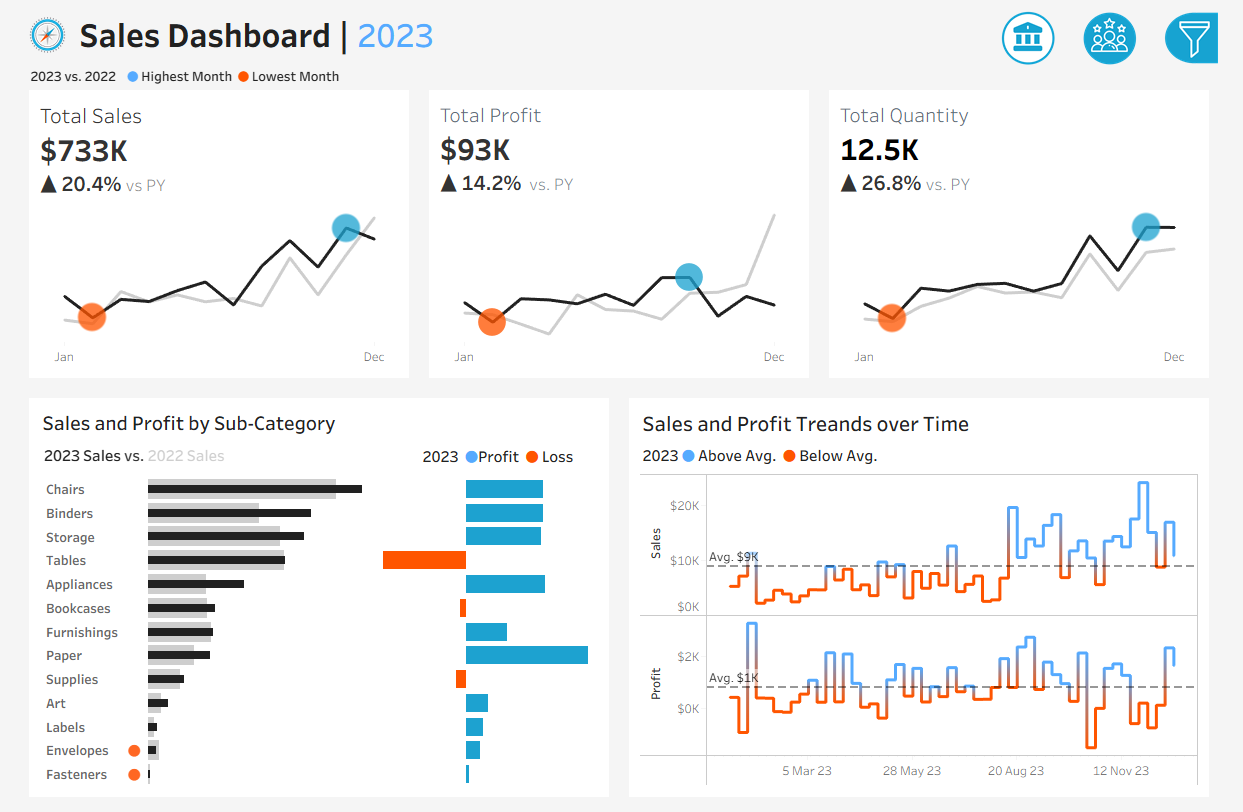

What the dashboard file says about the page in this screenshot:
{"tool":"tableau","page":{"name":"Sales Dashboard","canvas":[1200,800],"ordinal":1},"visuals":[{"type":"image","param":"Image/Icon - Logo.png","box":[2,0,52,55]},{"type":"text","box":[54,0,930,55]},{"type":"dashboard-object","box":[969,0,81,62]},{"type":"dashboard-object","box":[1050,0,81,62]},{"type":"blank","box":[978,5,215,80]},{"type":"worksheet","title":"Legend of KPI","mark":"Automatic","box":[0,55,1200,28]},{"type":"worksheet","title":"KPI Sales","mark":"Line","rows":["Calculation_0787825631051776"],"cols":["Order Date"],"box":[0,83,400,298]},{"type":"worksheet","title":"KPI Profit","mark":"Automatic","rows":["Calculation_0376338495287297"],"cols":["Order Date"],"box":[400,83,400,298]},{"type":"worksheet","title":"KPI Quantity","mark":"Automatic","rows":["Calculation_0591293386543109"],"cols":["Order Date"],"box":[800,83,400,298]},{"type":"text","box":[978,85,215,32]},{"type":"parameter","param":"[Parameters].[Parameter 1018997670502403]","box":[978,117,215,63]},{"type":"blank","box":[978,180,215,45]},{"type":"text","box":[978,225,215,29]},{"type":"filter","title":"KPI Sales","param":"[federated.0a49qa90tgosyq102g3m016yynfo].[none:Category:nk]","box":[978,254,215,52]},{"type":"filter","title":"KPI Sales","param":"[federated.0a49qa90tgosyq102g3m016yynfo].[none:Sub-Category:nk]","box":[978,306,215,52]},{"type":"blank","box":[978,358,215,42]},{"type":"text","box":[17,398,566,34]},{"type":"text","box":[617,398,566,36]},{"type":"text","box":[978,400,215,38]},{"type":"worksheet","title":"Legend of Sub-Category","mark":"Automatic","box":[17,432,380,34]},{"type":"text","box":[397,432,186,34]},{"type":"text","box":[617,434,566,29]},{"type":"filter","title":"KPI Sales","param":"[federated.0a49qa90tgosyq102g3m016yynfo].[none:Region:nk]","box":[978,438,215,52]},{"type":"worksheet","title":"Weekly Trends","mark":"Automatic","rows":["Calculation_1018997668982784","Calculation_0606411282939905"],"cols":["Order Date"],"box":[617,463,566,320]},{"type":"worksheet","title":"Category Comparison","mark":"Bar","rows":["Sub-Category","Calculation_0218833958481920"],"cols":["Calculation_1018997669982209","Calculation_1018997668982784","Calculation_0606411282939905"],"box":[17,466,566,316.9]},{"type":"filter","title":"KPI Sales","param":"[federated.0a49qa90tgosyq102g3m016yynfo].[none:State:nk]","box":[978,490,215,52]},{"type":"filter","title":"KPI Sales","param":"[federated.0a49qa90tgosyq102g3m016yynfo].[none:City:nk]","box":[978,542,215,52]}]}

Visuals, with their boxes in screenshot pixels (x1, y1, x2, y2), scaled from the page's 1200x800 canvas onto the 1243x812 screenshot:
image: BBox(2, 0, 56, 56)
text: BBox(56, 0, 1019, 56)
dashboard-object: BBox(1004, 0, 1088, 63)
dashboard-object: BBox(1088, 0, 1172, 63)
blank: BBox(1013, 5, 1236, 86)
"Legend of KPI" worksheet: BBox(0, 56, 1242, 84)
"KPI Sales" worksheet (Line marks): BBox(0, 84, 414, 387)
"KPI Profit" worksheet: BBox(414, 84, 829, 387)
"KPI Quantity" worksheet: BBox(829, 84, 1242, 387)
text: BBox(1013, 86, 1236, 119)
parameter: BBox(1013, 119, 1236, 183)
blank: BBox(1013, 183, 1236, 228)
text: BBox(1013, 228, 1236, 258)
"KPI Sales" filter: BBox(1013, 258, 1236, 311)
"KPI Sales" filter: BBox(1013, 311, 1236, 363)
blank: BBox(1013, 363, 1236, 406)
text: BBox(18, 404, 604, 438)
text: BBox(639, 404, 1225, 441)
text: BBox(1013, 406, 1236, 445)
"Legend of Sub-Category" worksheet: BBox(18, 438, 411, 473)
text: BBox(411, 438, 604, 473)
text: BBox(639, 441, 1225, 470)
"KPI Sales" filter: BBox(1013, 445, 1236, 497)
"Weekly Trends" worksheet: BBox(639, 470, 1225, 795)
"Category Comparison" worksheet (Bar marks): BBox(18, 473, 604, 795)
"KPI Sales" filter: BBox(1013, 497, 1236, 550)
"KPI Sales" filter: BBox(1013, 550, 1236, 603)
